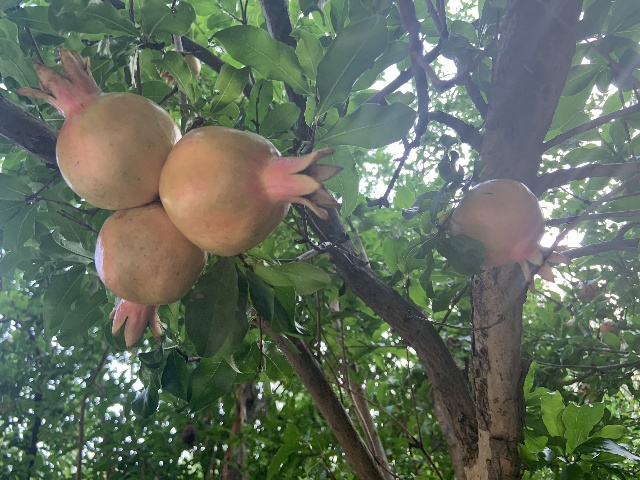mid-growth: (15, 46, 182, 208), (159, 125, 342, 256), (95, 201, 208, 347), (449, 178, 573, 294), (600, 319, 625, 344)
